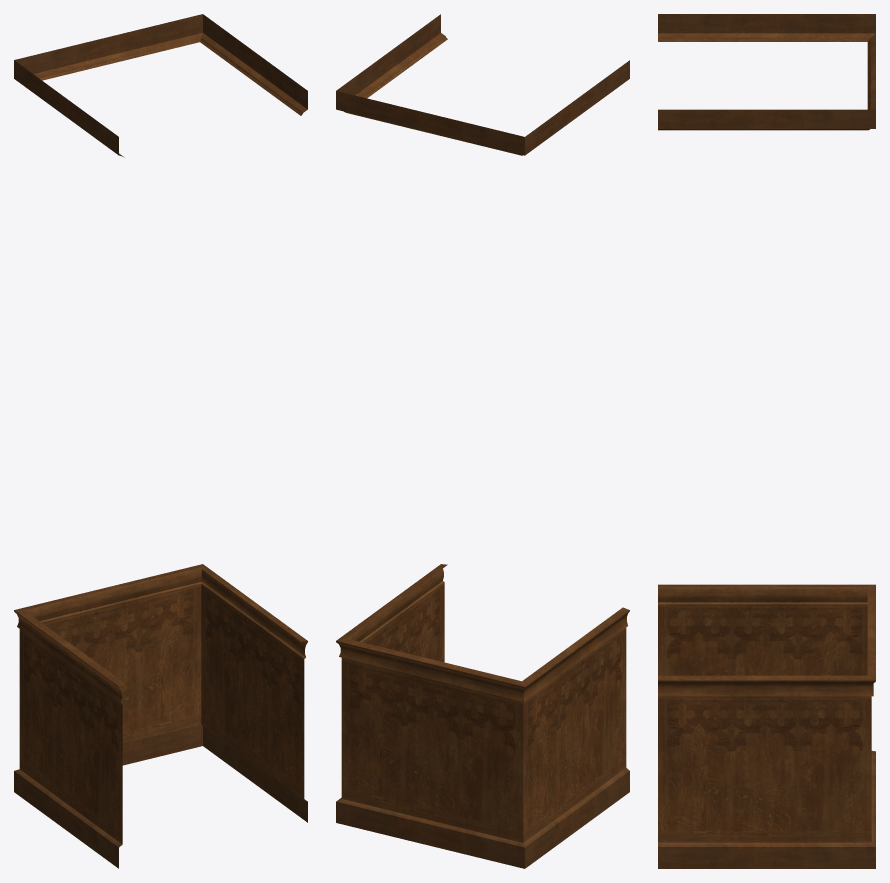
The model's file is SM_Wallbar_Carv_03.fbx.
3 renders of one model, left to right at view 1: azimuth 30°, elevation 25°; view 2: azimuth 150°, elevation 25°; view 3: azimuth 270°, elevation 25°, orthographic. The views are drawn at different scales.
Visible parts, largest first — view 1: SM_Wallbar_Carv_03; view 2: SM_Wallbar_Carv_03; view 3: SM_Wallbar_Carv_03.
Part boxes in pixels (left/top/right/bottom): SM_Wallbar_Carv_03: left=14, top=14, right=307, bottom=868; SM_Wallbar_Carv_03: left=336, top=14, right=629, bottom=868; SM_Wallbar_Carv_03: left=658, top=14, right=875, bottom=868.
Bounding box in the file's own units: 108 × 400 × 104.
